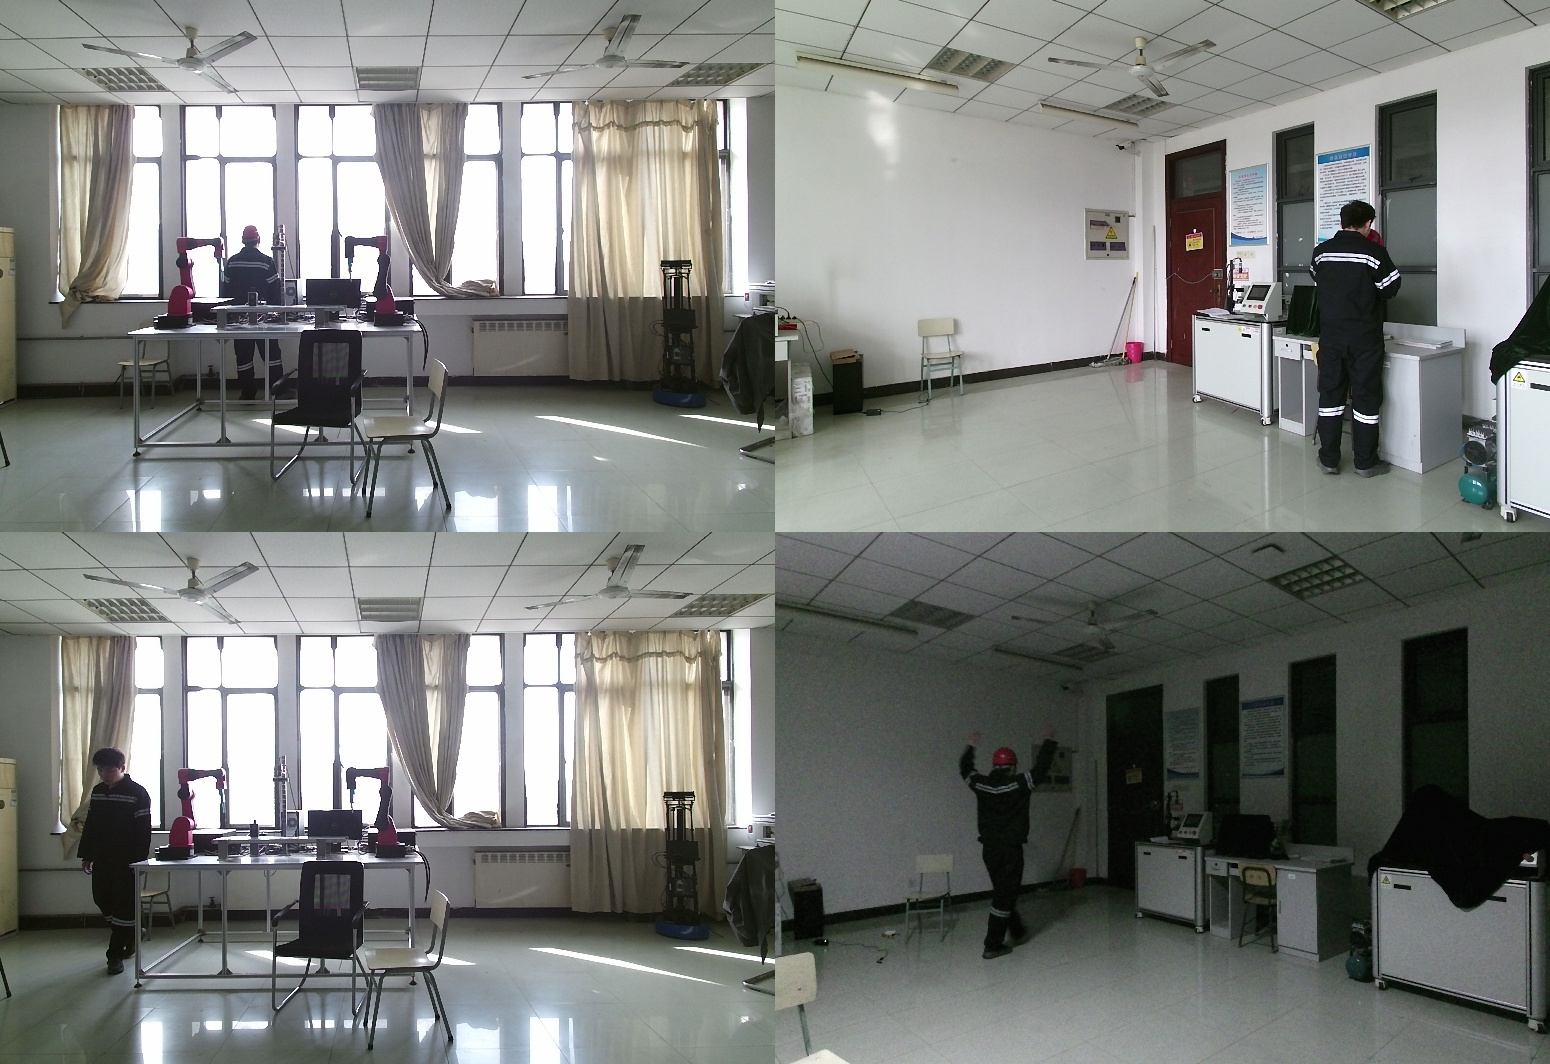person: (1305, 203, 1426, 474), (953, 726, 1065, 969), (77, 748, 151, 975), (219, 226, 293, 409)
